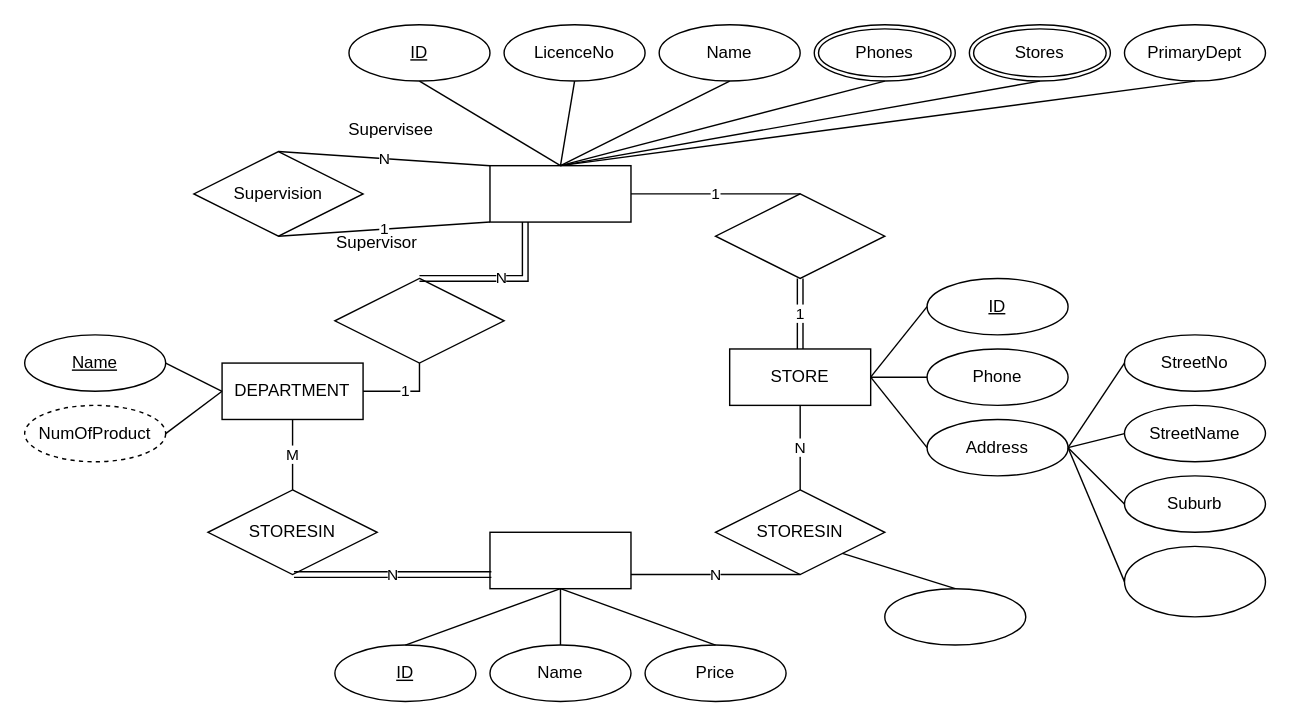
The diagram is 1290 pixels wide and 726 high, and some of its shapes have lost their labels. Here are the shapes that lost their labels. From the top down, the centre of each, then its label:
At (560,193): "EMPLOYEE".
At (799,235): "MANAGES".
At (418,320): "HAS".
At (560,560): "PRODUCT".
At (1194,581): "Postcode".
At (954,616): "Location".
